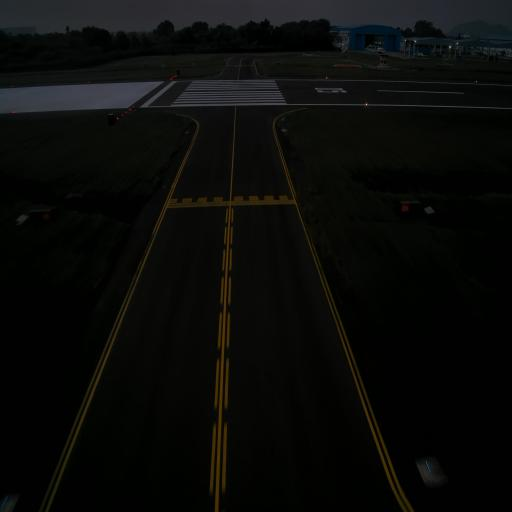on: (423, 458, 432, 476)
